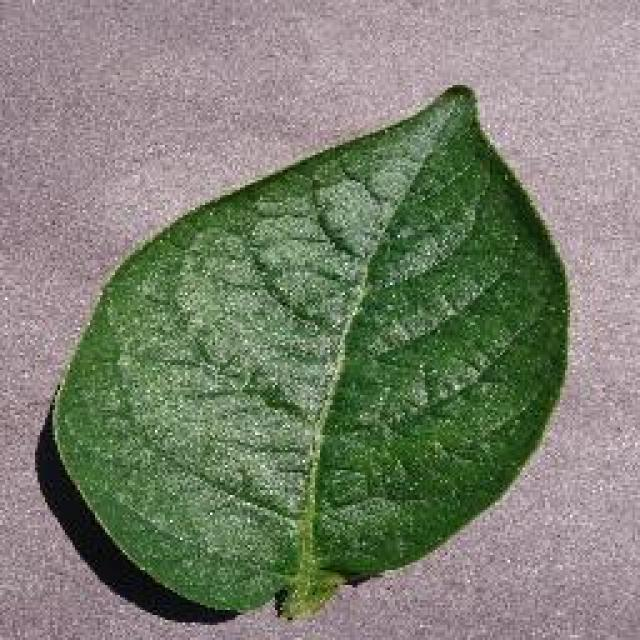healthy: (45, 80, 575, 625)
